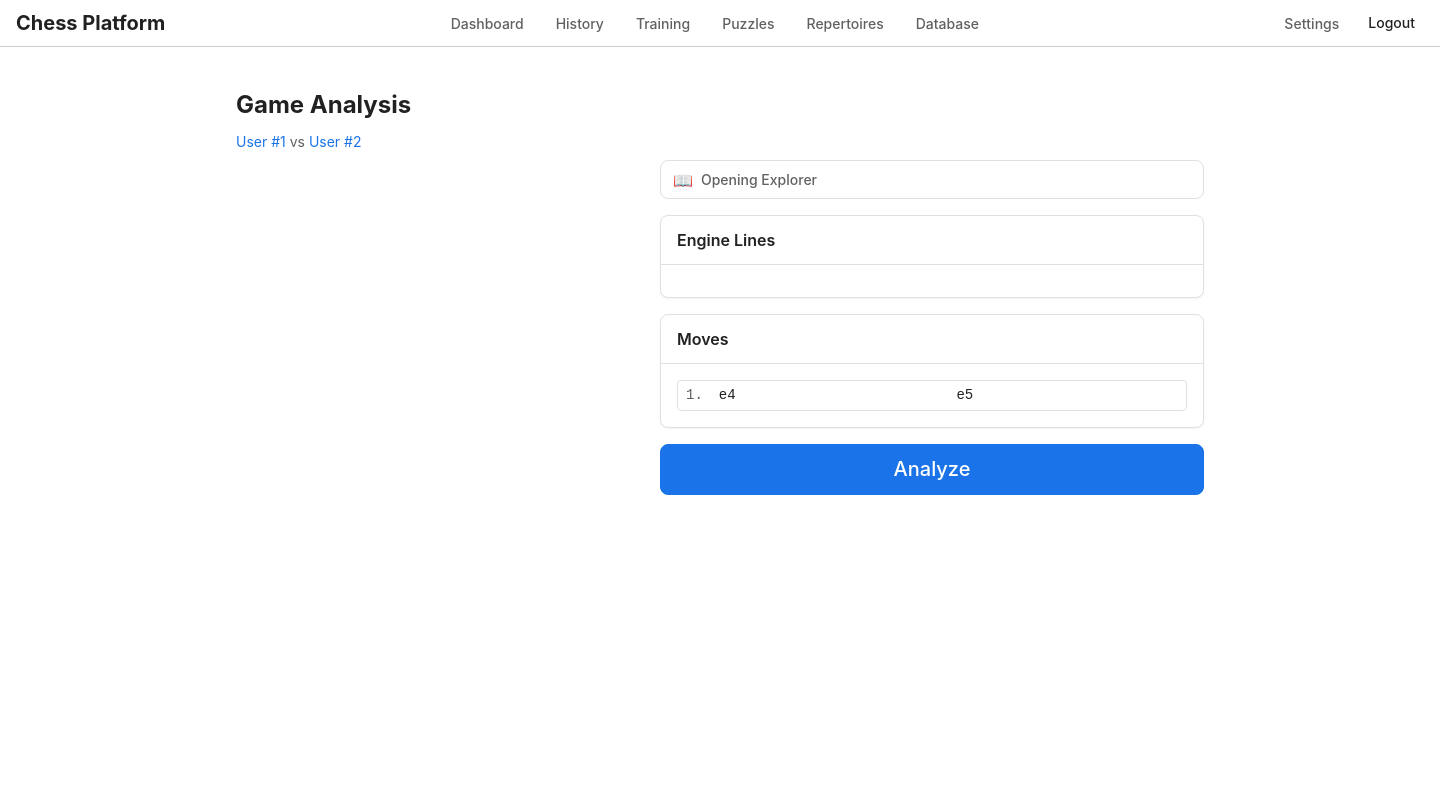
Scenario: AnalysisPage › switches the eval bar to the selected engine line score
What coordinates should you click on to do the following:
click the button with test id "analyze-button"
I would click on:
 (932, 470)
Its box is [660,444,1204,495].
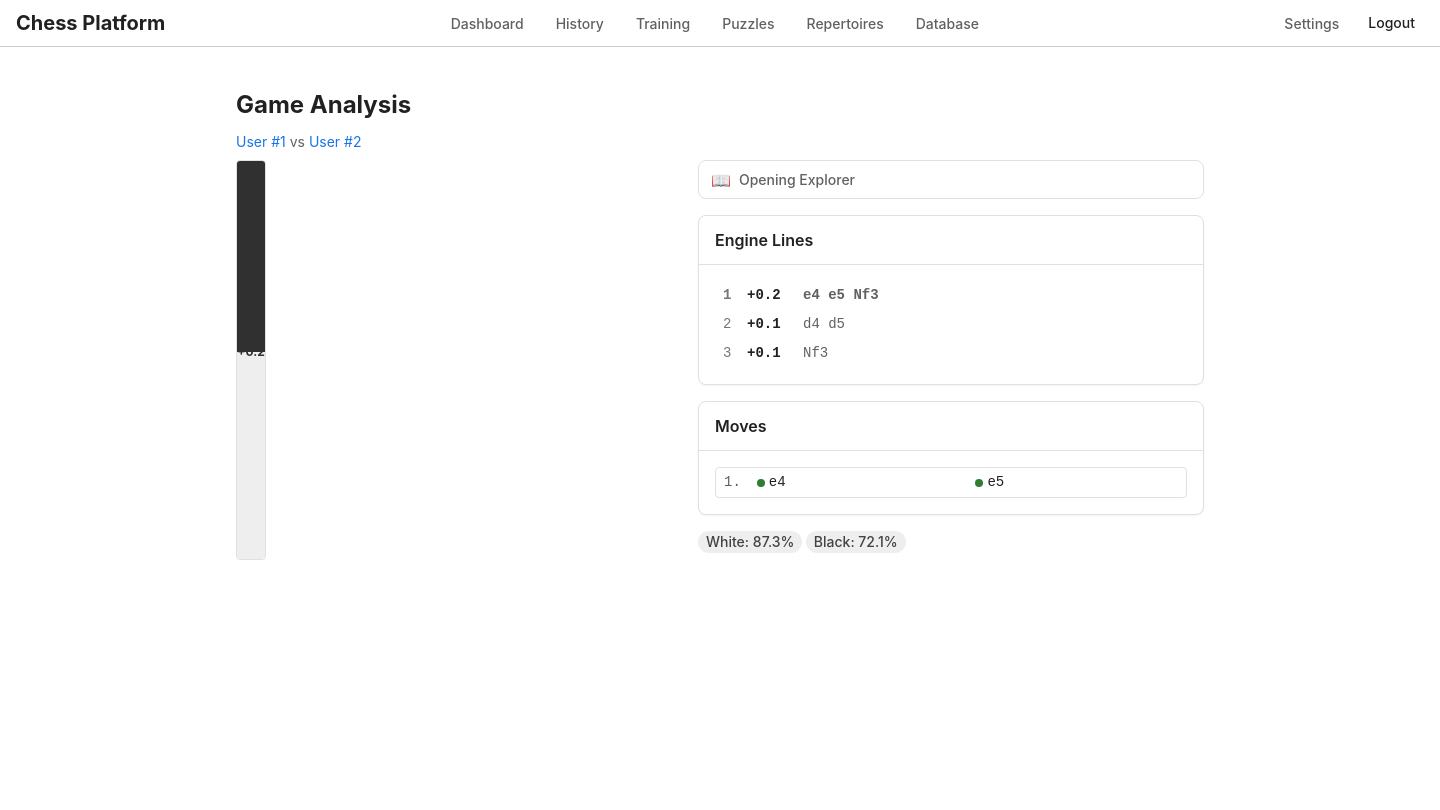
Expected: the element with test id "accuracy-display" is shown, [698,531,906,553]
Expected: the element with test id "engine-lines-panel" is shown, [715,281,1187,368]
Expected: the text with test id "eval-score" reads "+0.2", [237,344,265,359]
What coordinates should you click on to do the following:
click the button with test id "engine-line-1"
I would click on:
 (764, 324)
Its box is [715,310,1203,339].
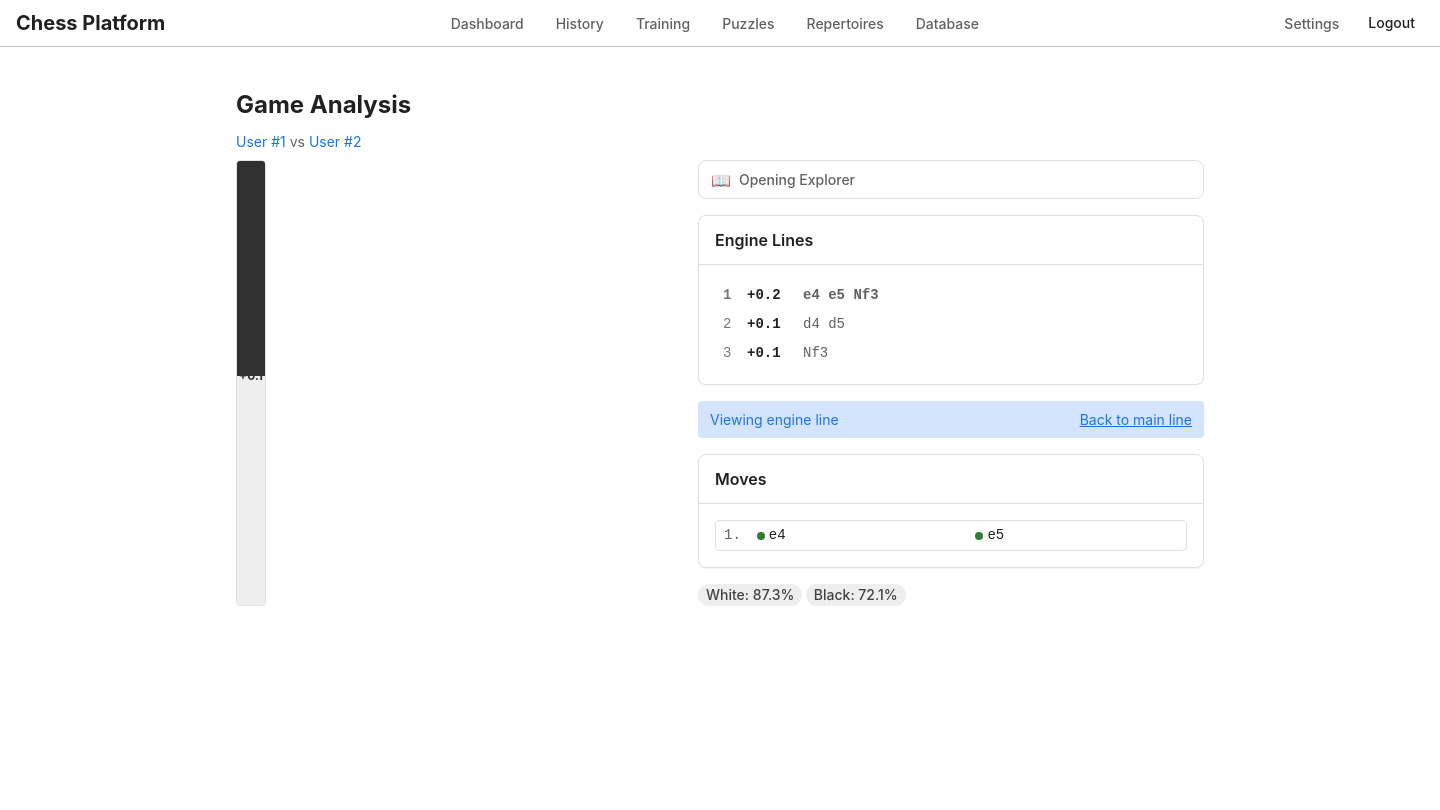
Expected: the element with test id "variation-indicator" is shown, [698,401,1204,438]
Expected: the text with test id "eval-score" reads "+0.1", [239,368,263,383]
